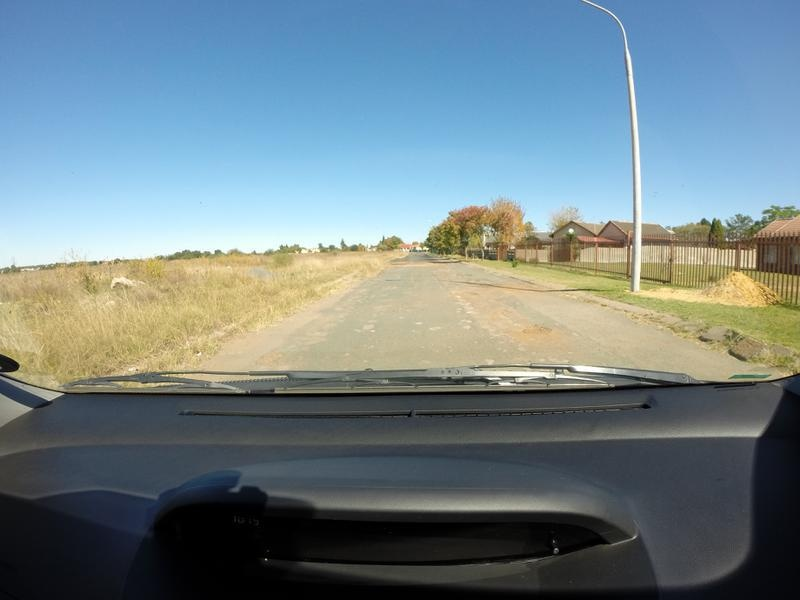pothole: (523, 325, 559, 338), (263, 350, 290, 366), (461, 277, 492, 289), (385, 278, 408, 282)
